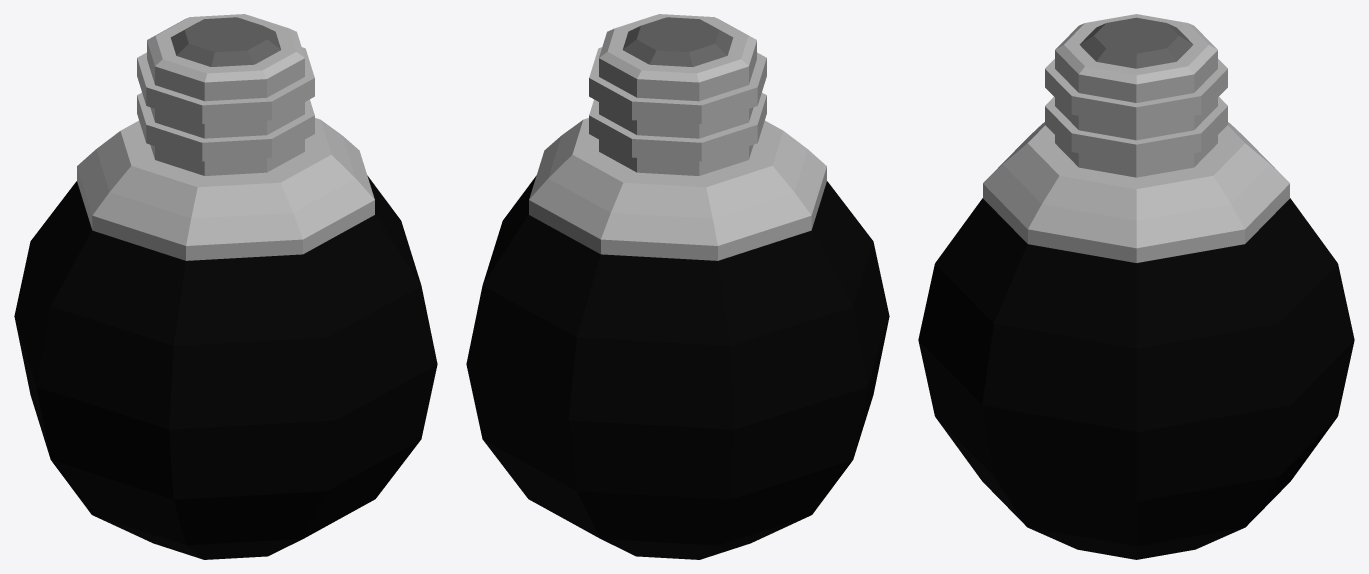
File: borkenbulb.fbx
3 renders of one model, left to right at view 1: azimuth 30°, elevation 25°; view 2: azimuth 150°, elevation 25°; view 3: azimuth 270°, elevation 25°, orthographic.
Visible parts, largest first — view 1: BrokenBulb; view 2: BrokenBulb; view 3: BrokenBulb.
Boxes of the visible parts, <box> form: BrokenBulb: <box>14,14,437,559</box>; BrokenBulb: <box>466,14,889,559</box>; BrokenBulb: <box>918,14,1354,559</box>.
Size of the model in its own units: 9.58 by 12.22 by 9.58.
